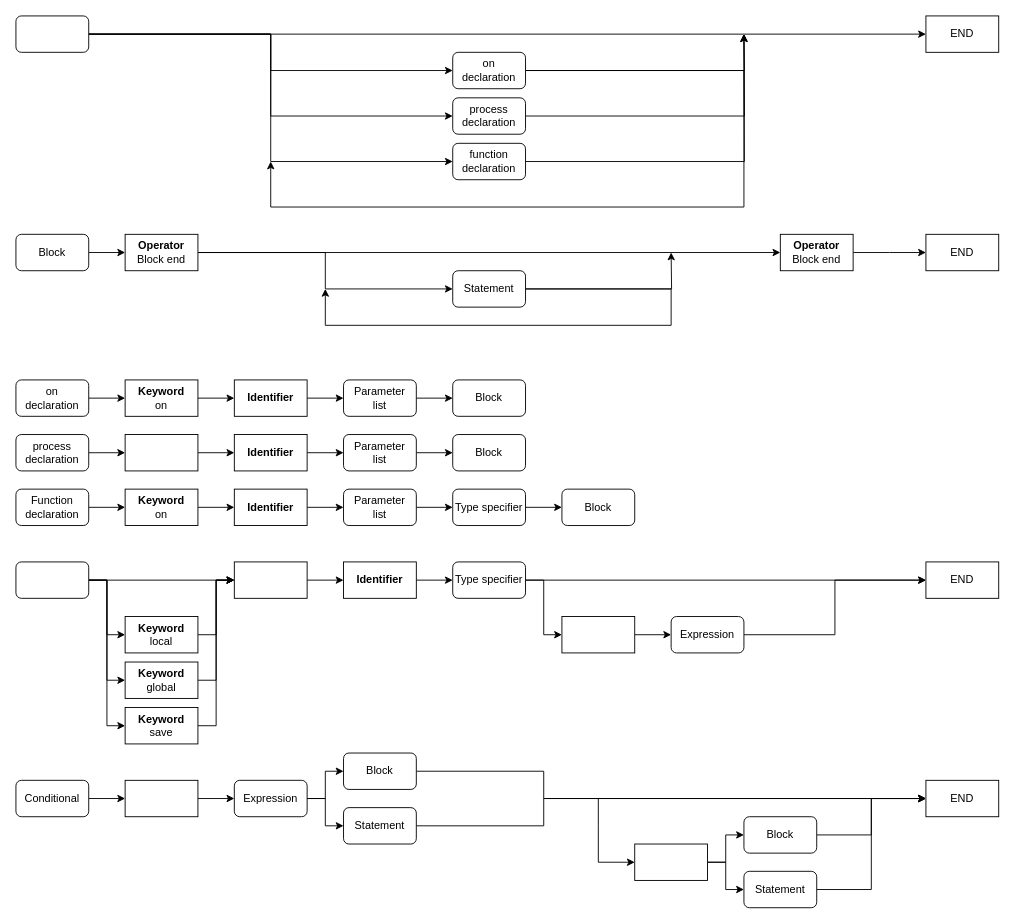
Some shapes in this 1015 by 924 pixel diagram are drawn without their labels. Each missing label, with the centre of its shape:
"Keyword else" goes at pixel 671 861.
"Keyword if" goes at pixel 161 798.
"Keyword process" goes at pixel 161 452.
"Keyword var" goes at pixel 270 579.
"Library" goes at pixel 52 33.
"Operator Set" goes at pixel 598 634.
"Variable declaration" goes at pixel 52 579.
